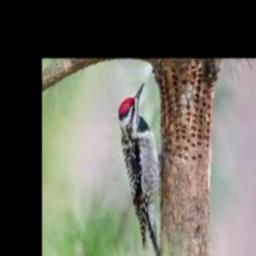Woodpecker: (119, 81, 162, 256)
